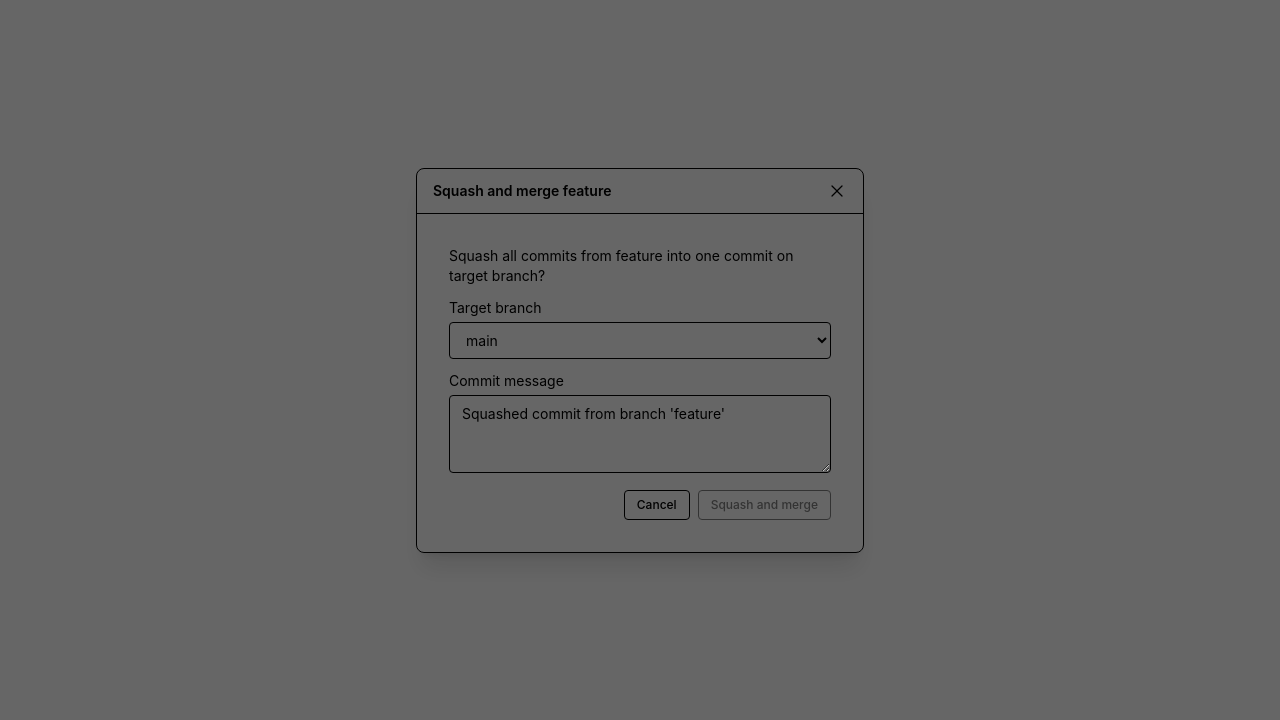
Scenario: SquashMergeIntoModal › shows inline error when squash merge fails
Select "main" in the dropdown labelled "Target branch": (640, 340) x1=449 y1=322 x2=831 y2=358
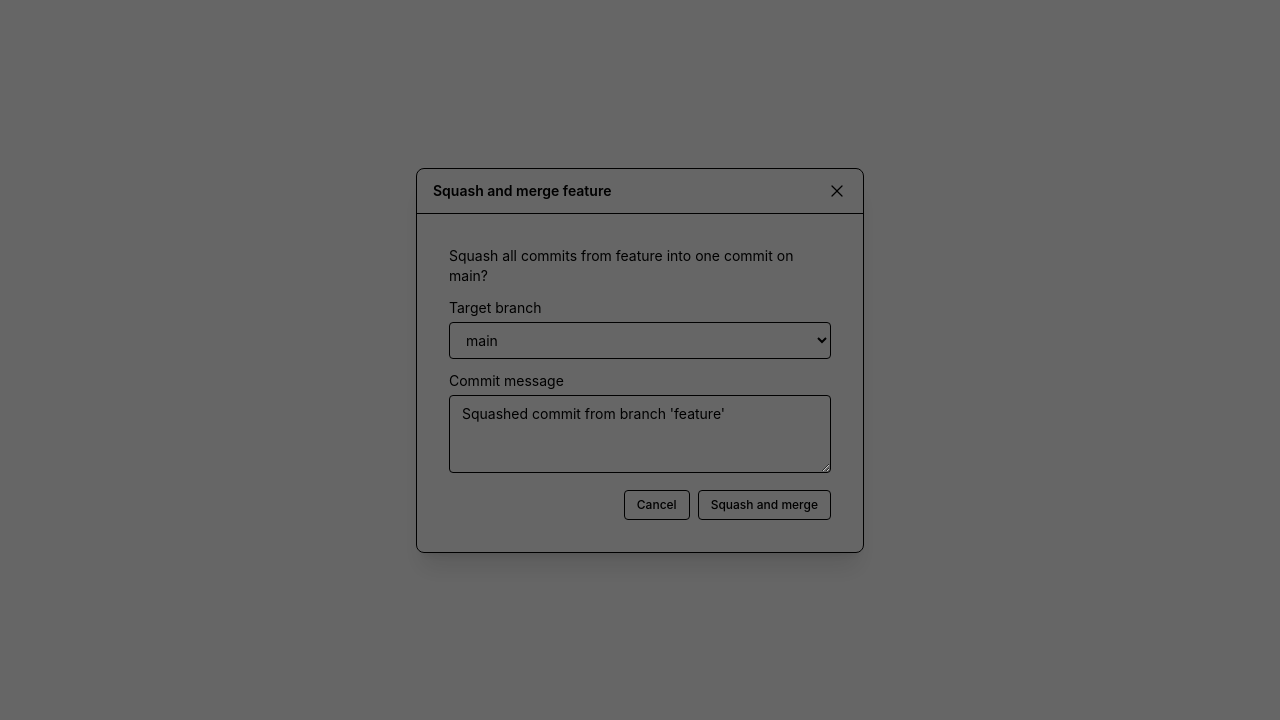
Click the button "Squash and merge": (764, 504) x1=698 y1=490 x2=831 y2=520
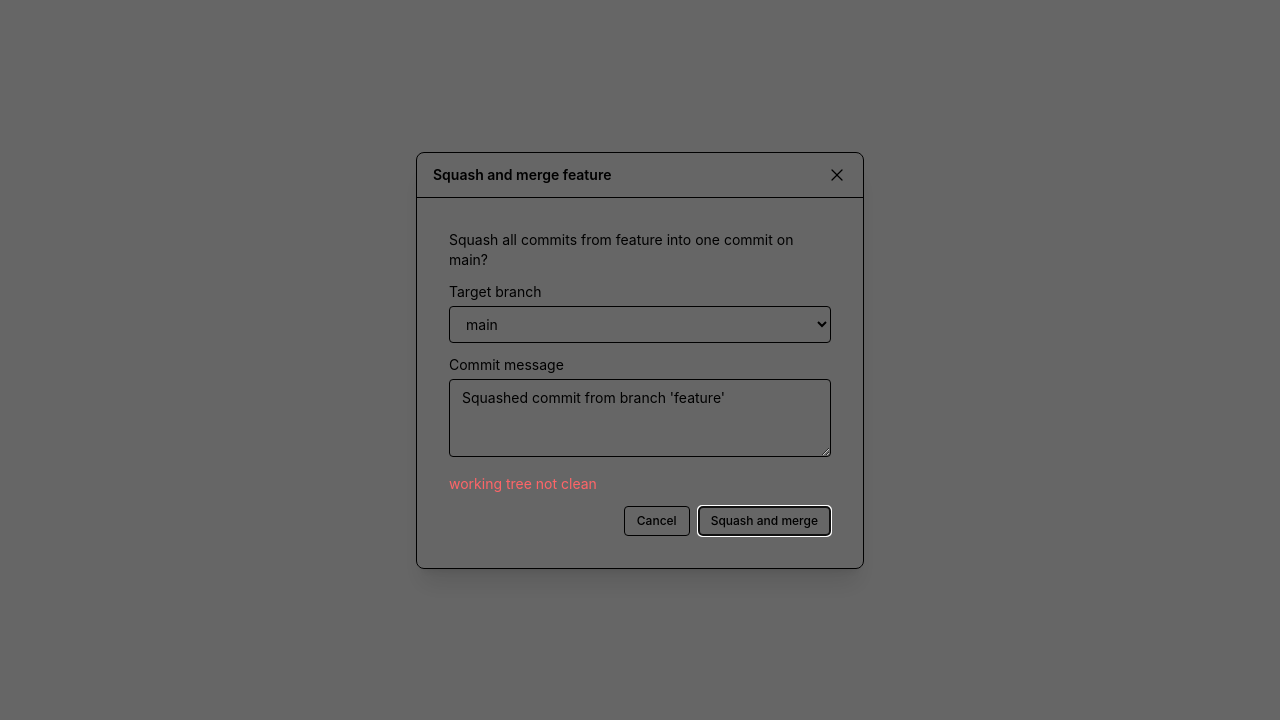
Expected: the text "working tree not clean" is shown, x1=449 y1=474 x2=597 y2=492
